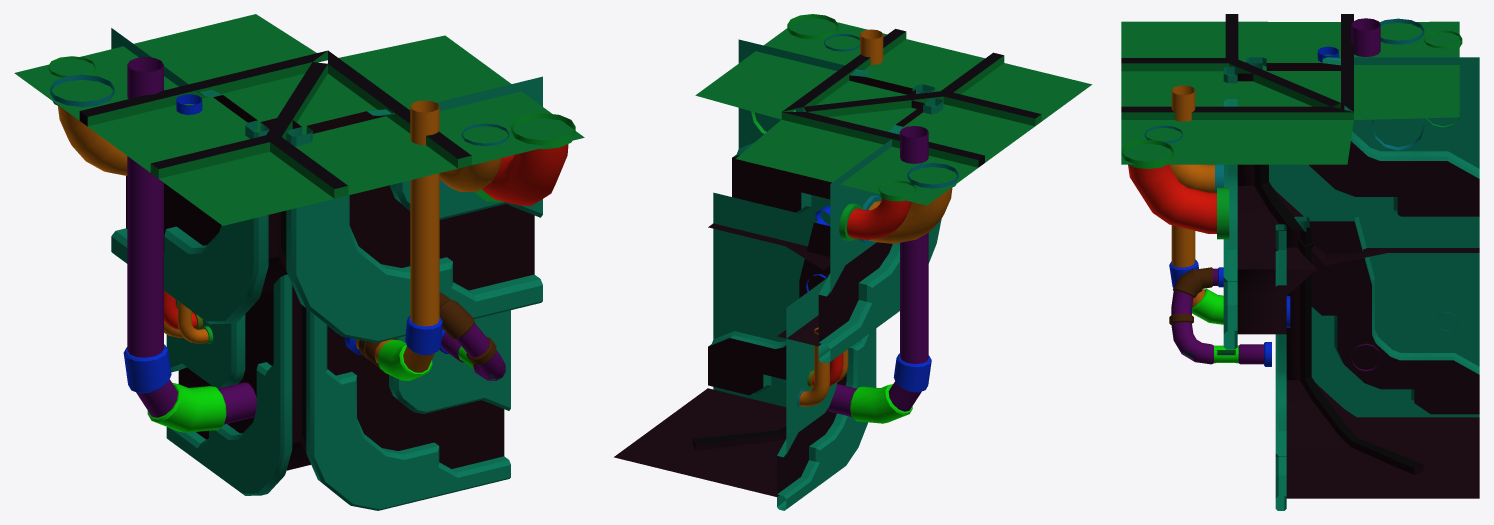
The model's file is OBJ_Mur_Coin_Bas.fbx.
3 views of the same model, side by side, from view 1: azimuth 30°, elevation 25°; view 2: azimuth 150°, elevation 25°; view 3: azimuth 270°, elevation 25° (orthographic). The views are drawn at different scales.
Parts seen in each view (by area): view 1: OBJ_Mur_Coin_Bas; view 2: OBJ_Mur_Coin_Bas; view 3: OBJ_Mur_Coin_Bas.
Boxes of the visible parts, x1=… form: OBJ_Mur_Coin_Bas: x1=14, y1=14, x2=584, y2=510; OBJ_Mur_Coin_Bas: x1=614, y1=14, x2=1092, y2=510; OBJ_Mur_Coin_Bas: x1=1121, y1=14, x2=1479, y2=510.
Size of the model in its own units: 3500 by 3926 by 3500.
